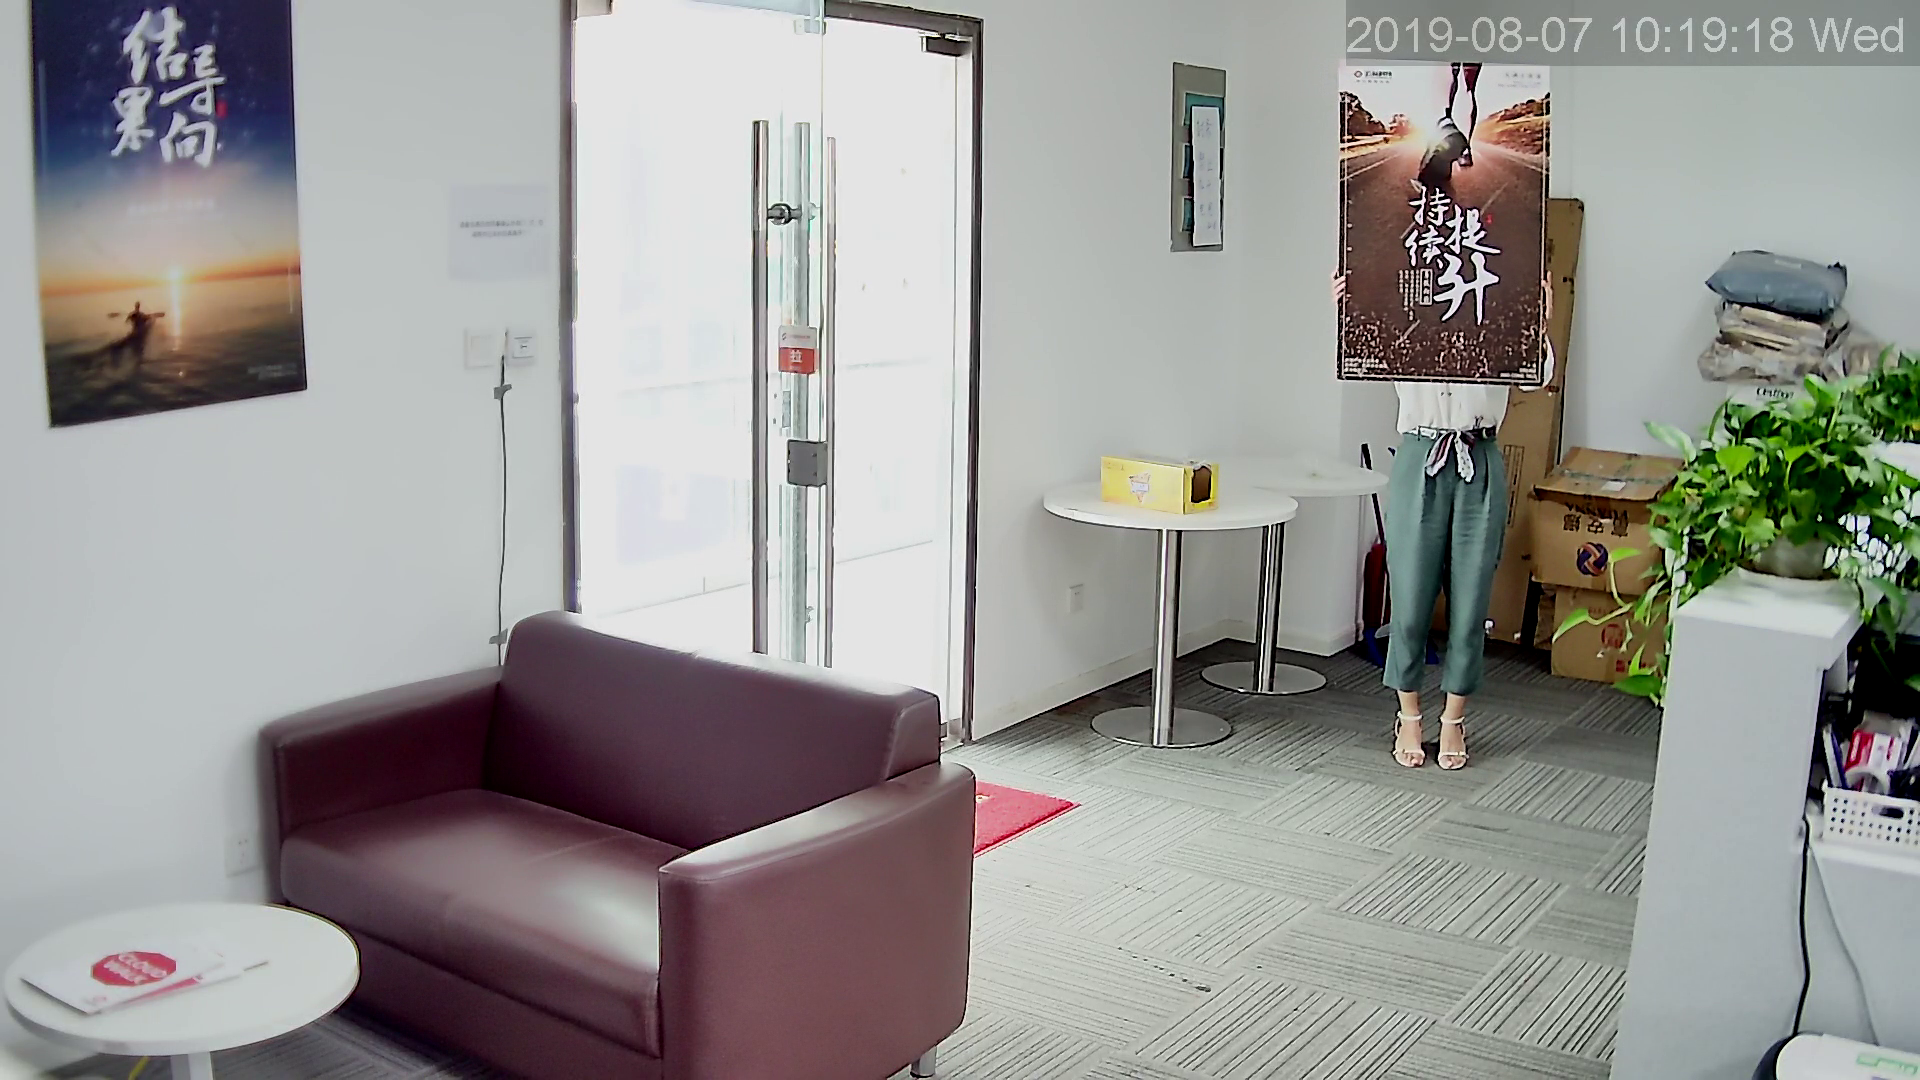bill: (29, 3, 305, 423), (1338, 62, 1543, 381)
